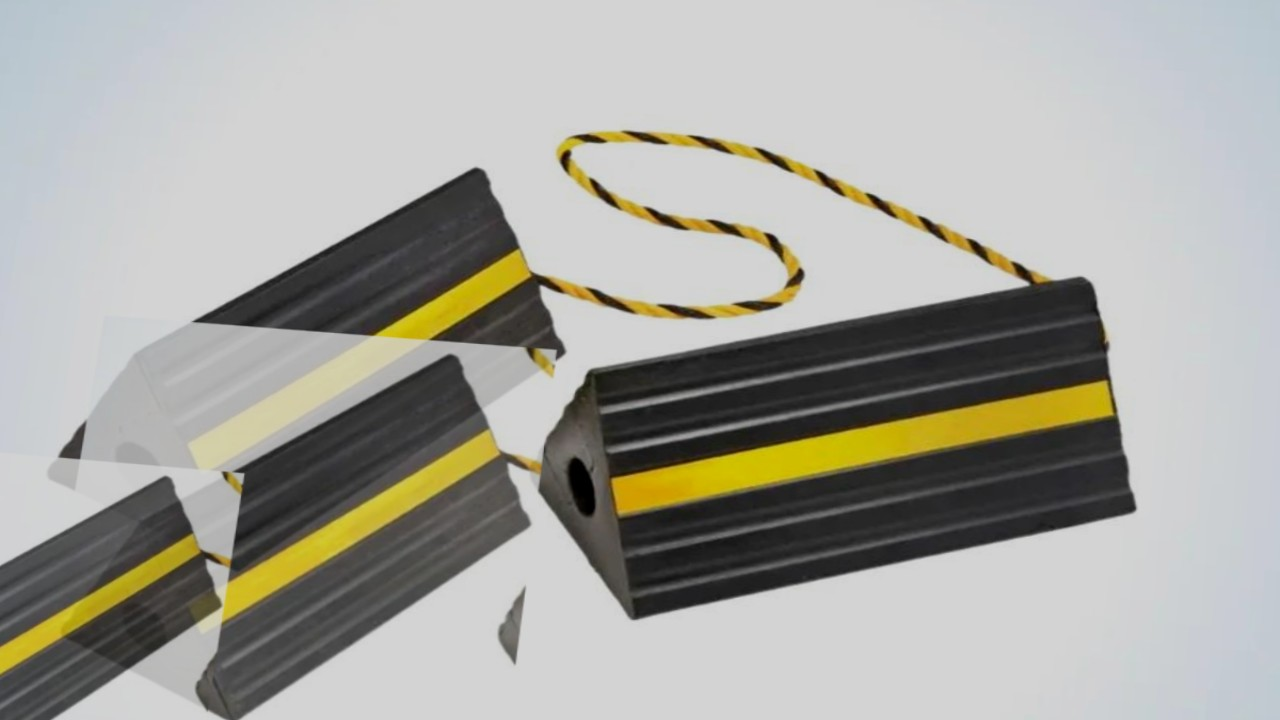chock: (514, 230, 1175, 673), (20, 129, 594, 607), (37, 315, 557, 720), (0, 445, 246, 720)
